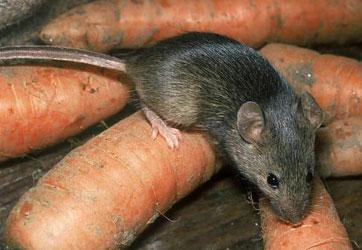rat: (0, 32, 324, 226)
